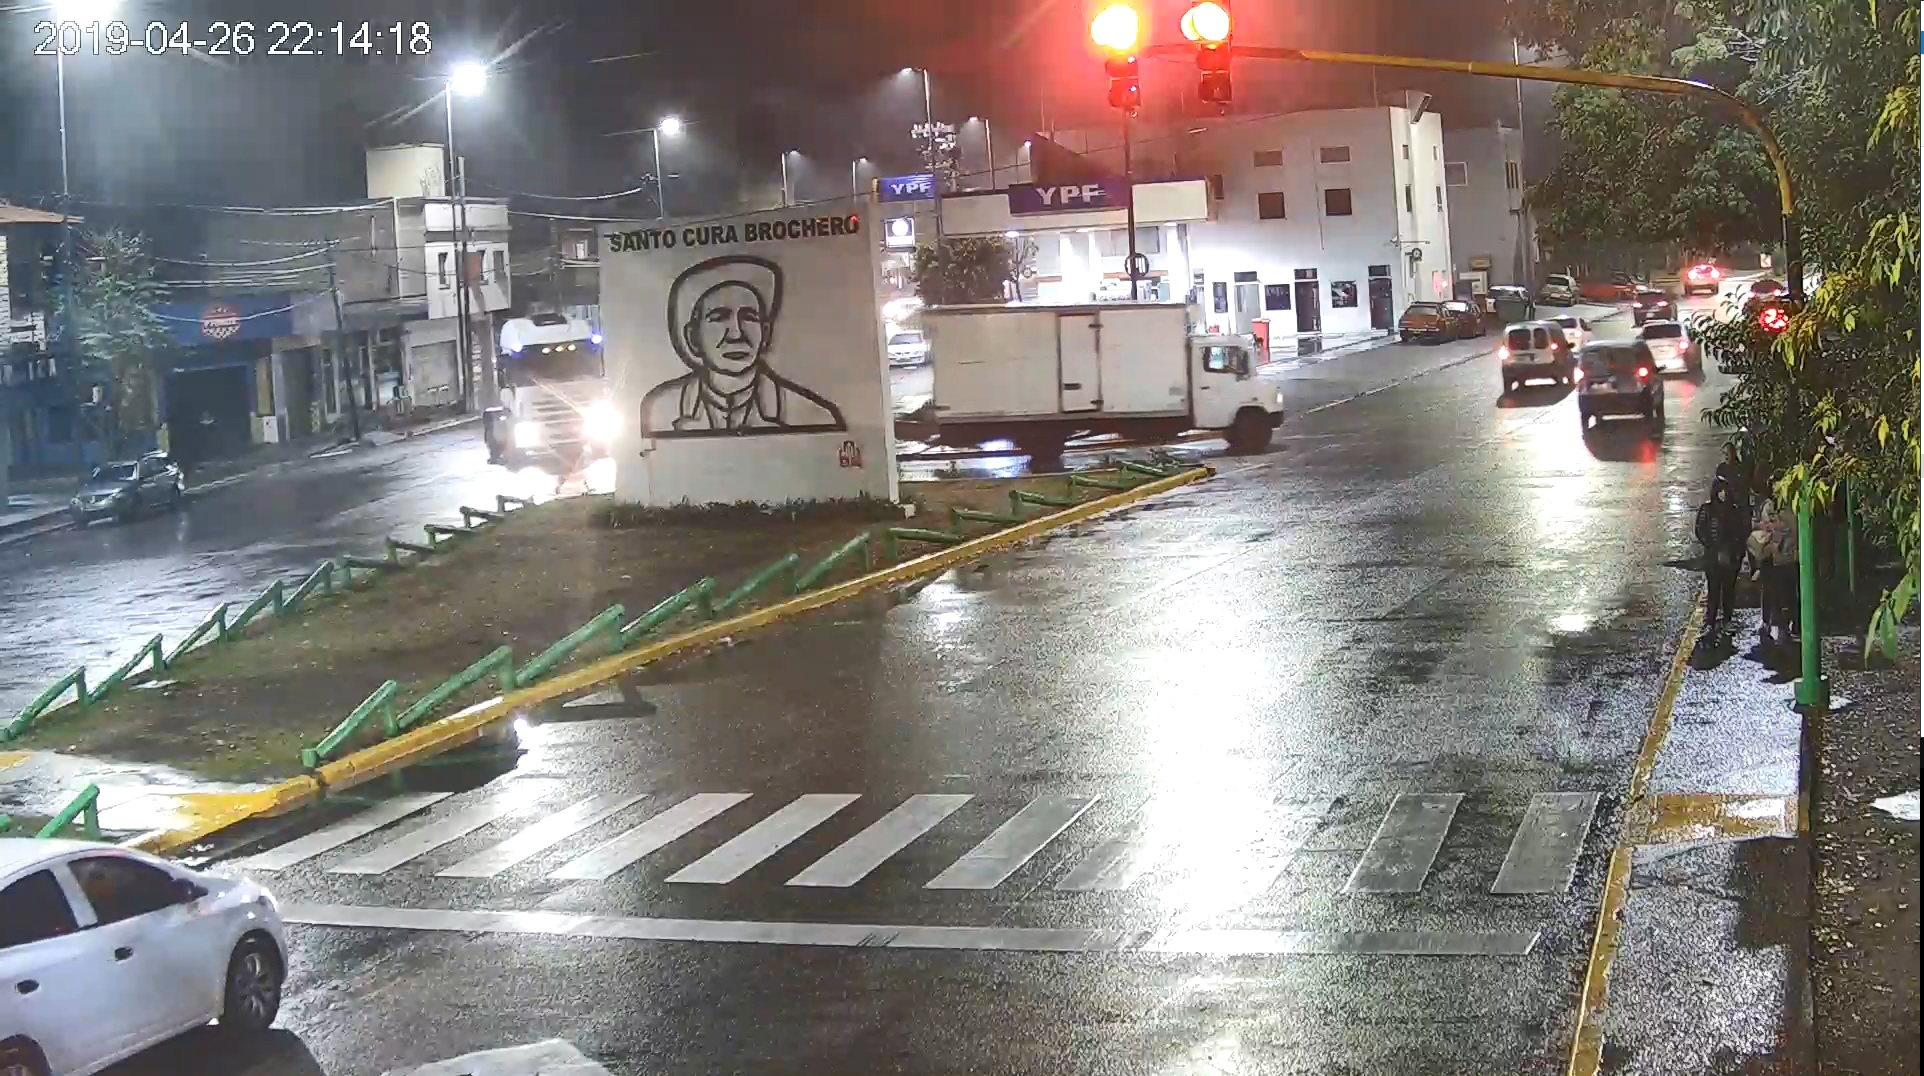car: (1, 814, 296, 1076), (67, 445, 186, 530), (1569, 334, 1674, 423), (1487, 307, 1576, 397)
truck: (895, 300, 1300, 471), (462, 311, 610, 471)
